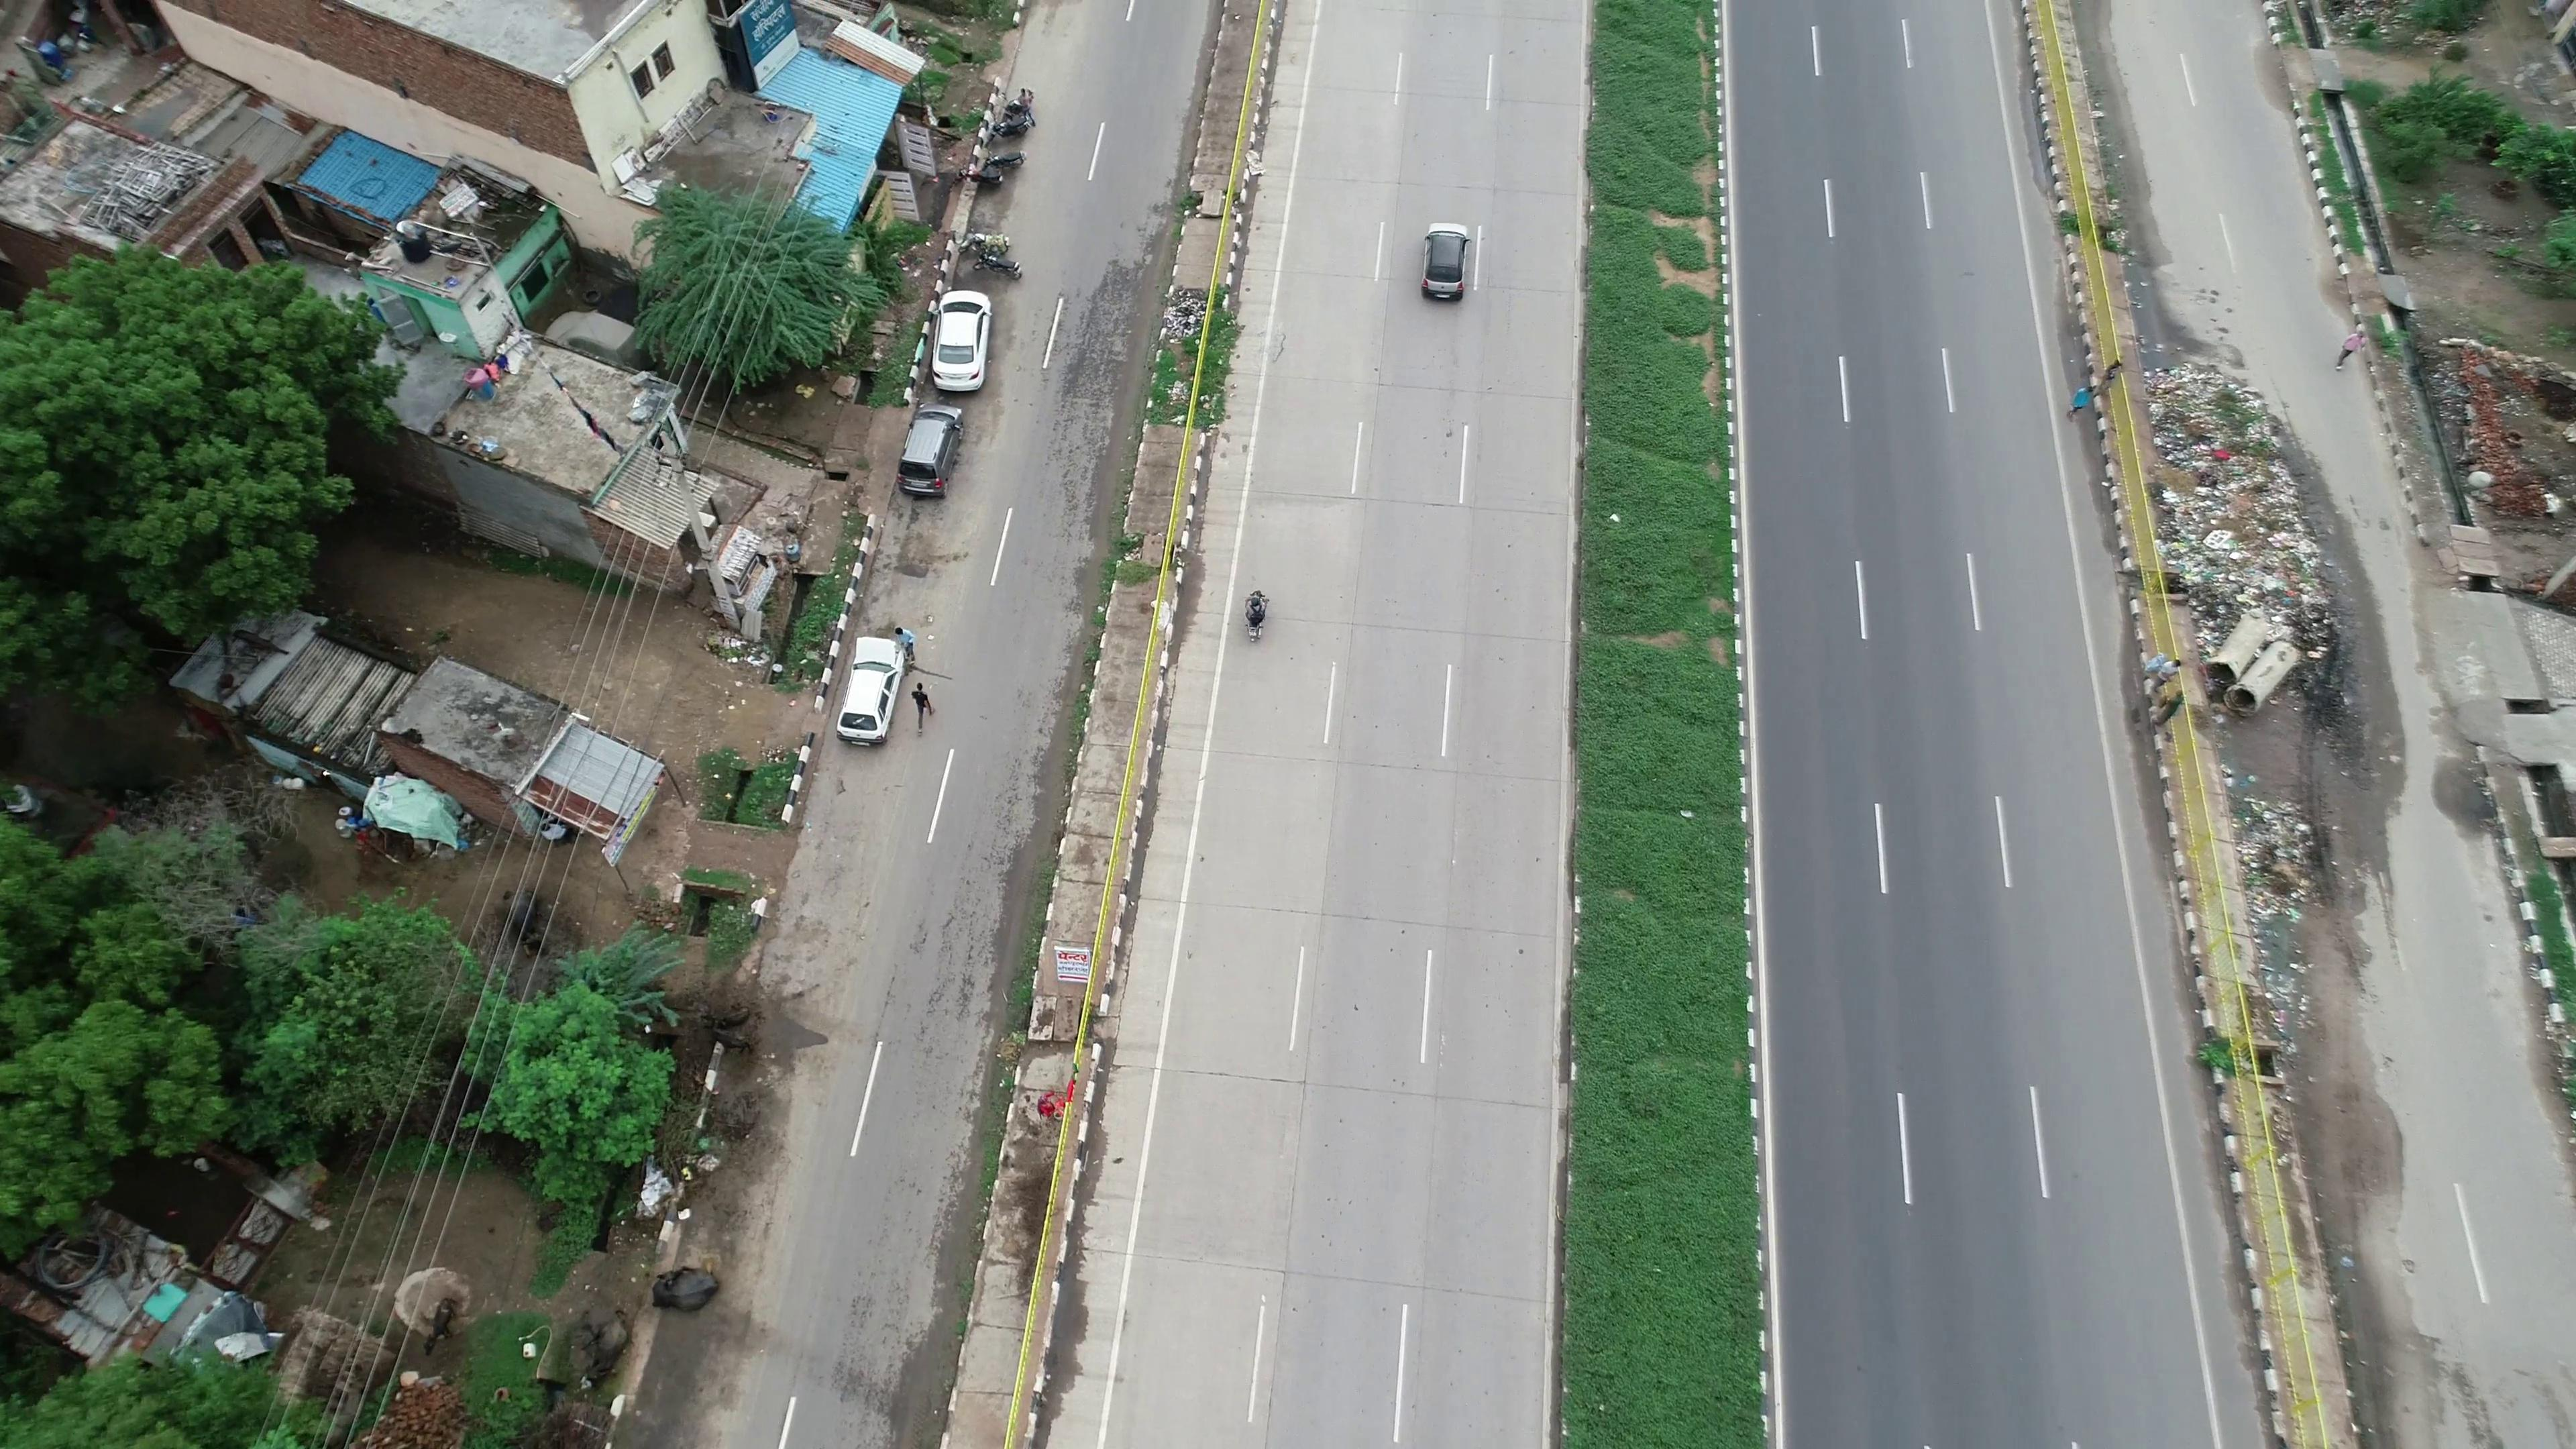Road_side_garbage: (2148, 352, 2330, 660)
